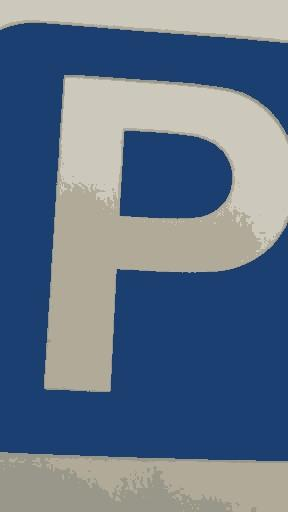parking: (0, 20, 288, 458)
